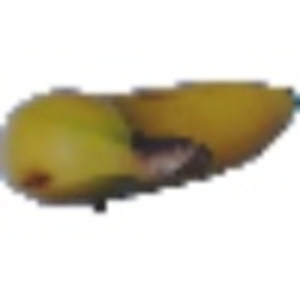banana: (6, 77, 295, 212)
